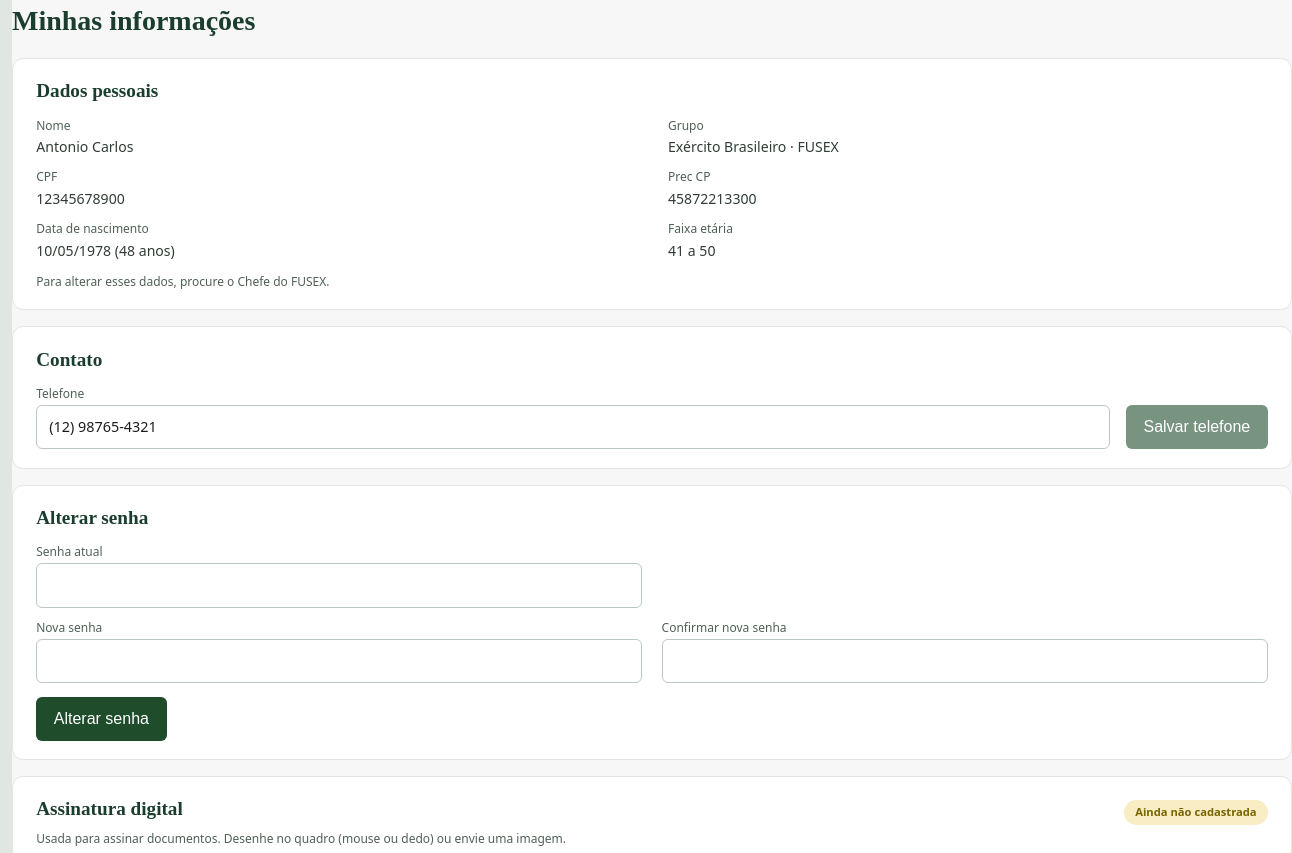
Scenario: Minhas informações (com mock) › salva o telefone, mostra sucesso e desabilita o botão de novo
The width and height of the screenshot is (1292, 853).
Replace the text in the field labelled "Telefone" with "(12) 91111-2222" at point(573, 427), box [36, 405, 1110, 449]
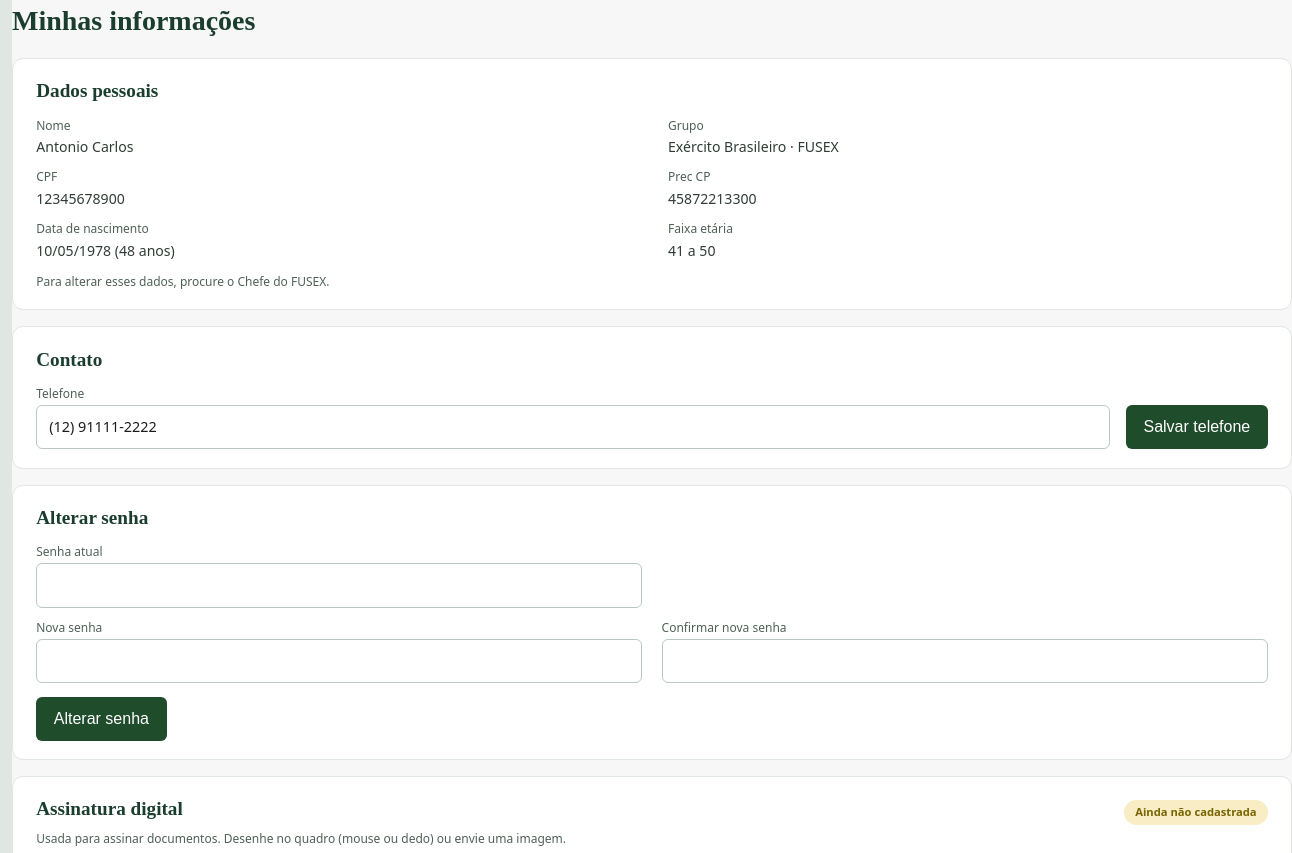
Click the button "Salvar telefone" at point(1197, 427), box [1126, 405, 1268, 449]
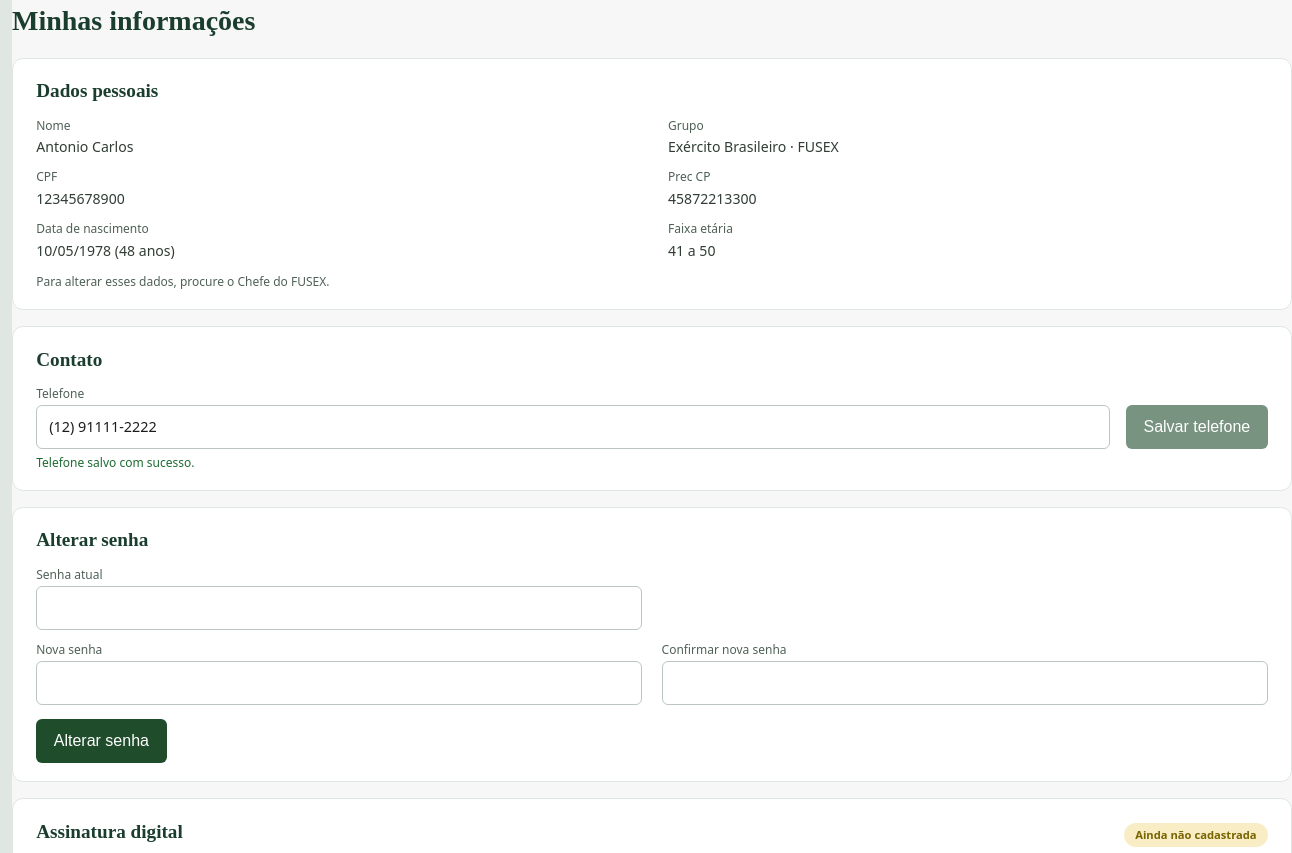
Now the text "Telefone salvo com sucesso." is shown, box [36, 454, 194, 471]
Now the button "Salvar telefone" is disabled, box [1126, 405, 1268, 449]
